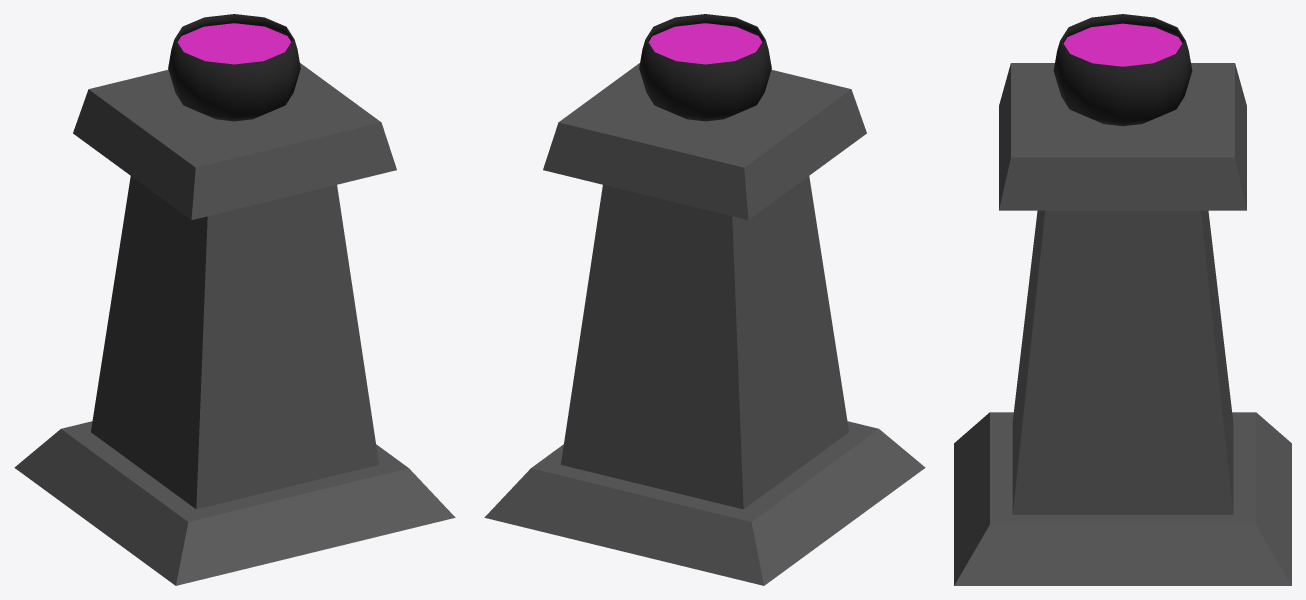
Rendered from Lamb.fbx.
3 views of the same model, side by side, from view 1: azimuth 30°, elevation 25°; view 2: azimuth 150°, elevation 25°; view 3: azimuth 270°, elevation 25° (orthographic). The views are drawn at different scales.
Visible parts, largest first — view 1: Plane, Circle; view 2: Plane, Circle; view 3: Plane, Circle.
Boxes of the visible parts, <box> form: Plane: <box>14,63,455,585</box>; Circle: <box>168,14,300,121</box>; Plane: <box>484,63,925,585</box>; Circle: <box>639,14,771,121</box>; Plane: <box>954,63,1291,585</box>; Circle: <box>1053,14,1192,126</box>.
Size of the model in its own units: 200 by 310 by 200.
